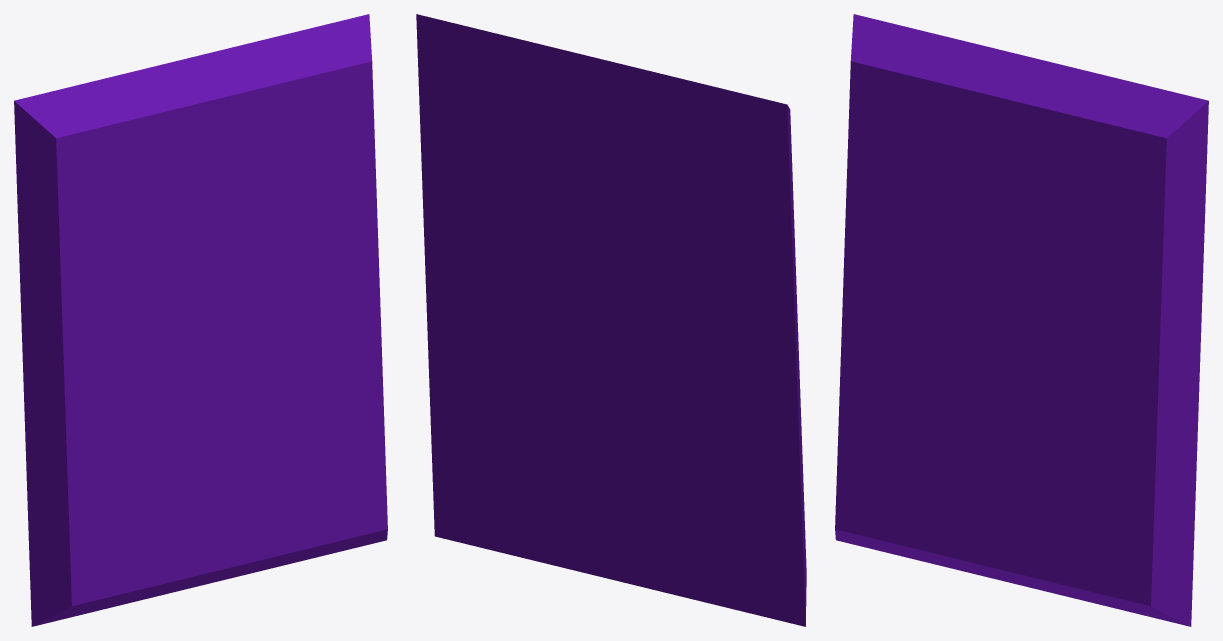
Rendered from SeatPouch_13_chunks.fbx.
The picture shows the model from 3 angles, left to right: view 1: azimuth 30°, elevation 25°; view 2: azimuth 150°, elevation 25°; view 3: azimuth 330°, elevation 25°; orthographic projection. The views are drawn at different scales.
Parts seen in each view (by area): view 1: SeatPouch_13_0; view 2: SeatPouch_13_0; view 3: SeatPouch_13_0.
Part boxes in pixels (x1,y1,x2,y2): SeatPouch_13_0: (14,14,387,626); SeatPouch_13_0: (416,14,806,626); SeatPouch_13_0: (835,14,1208,626).
Size of the model in its own units: 243 by 335 by 45.29.
